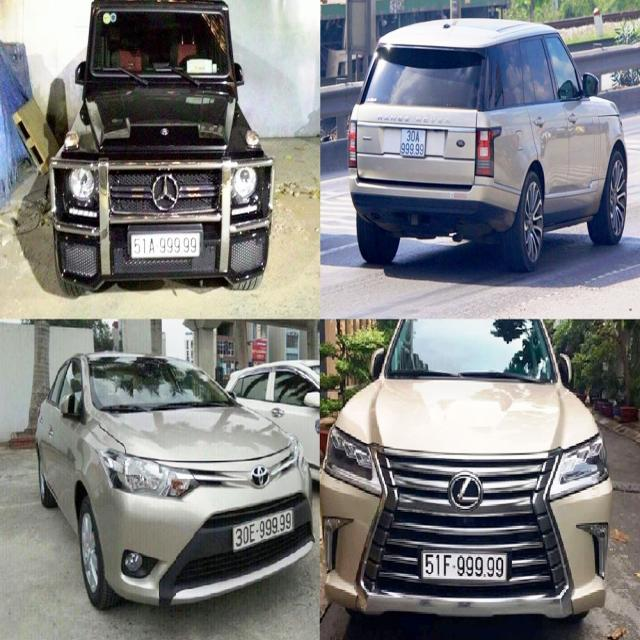license_plate: (235, 506, 295, 555), (424, 552, 509, 581), (132, 231, 200, 261), (402, 127, 428, 160)
